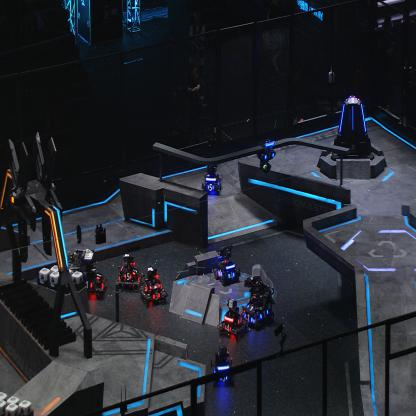car: (72, 248, 108, 298), (242, 275, 274, 330), (217, 299, 248, 340), (212, 244, 242, 286), (114, 252, 144, 292), (140, 266, 168, 306), (211, 344, 235, 389), (201, 161, 222, 194)
